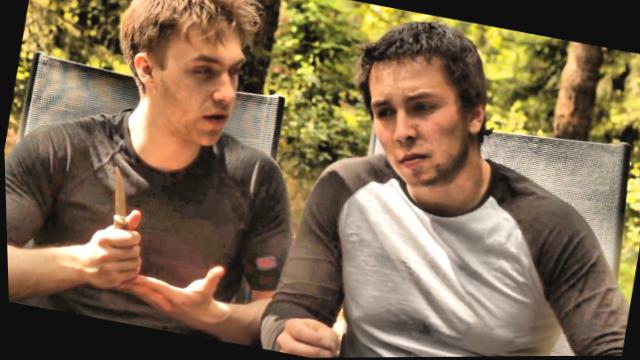knife: (80, 154, 162, 270)
